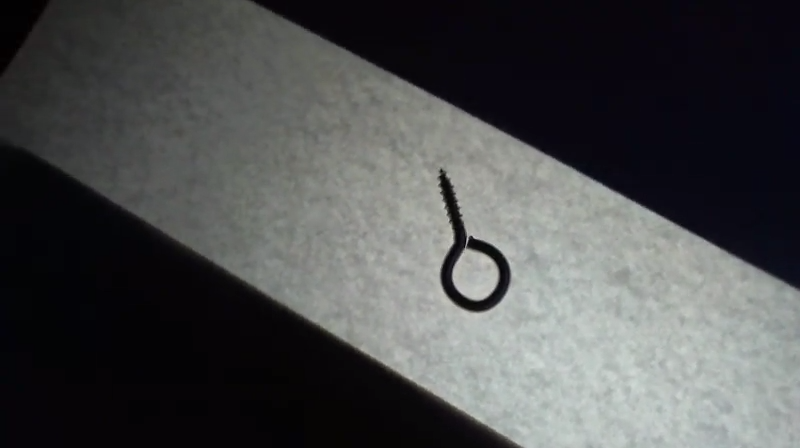O001: (431, 165, 513, 313)
